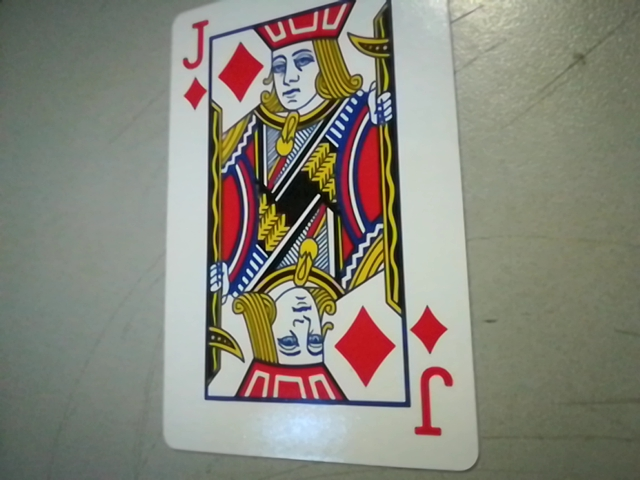fk j: (402, 295, 464, 446)
